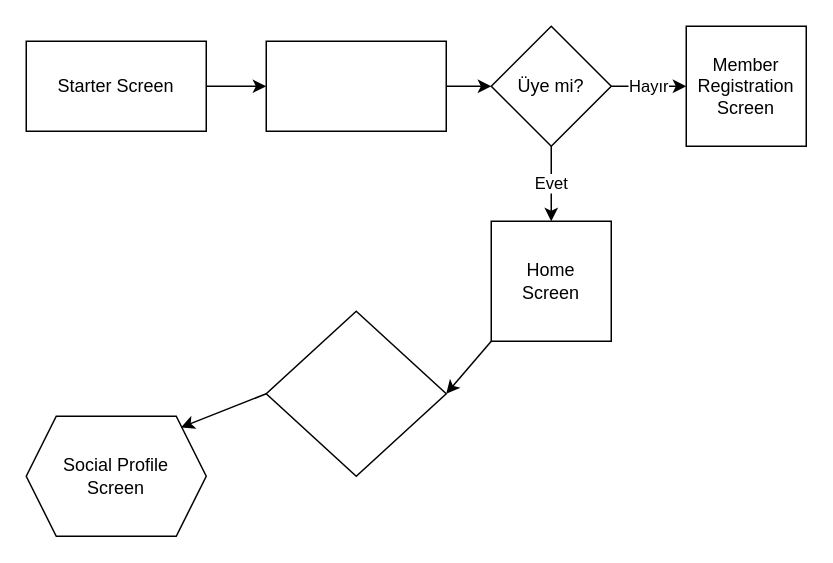
This 833x563 diagram has some shape labels left out. Each missing label, with the centre of its shape:
Benden Nere Gitmemi İstersin: the point at 355,393
Member Login Screen: the point at 355,85
